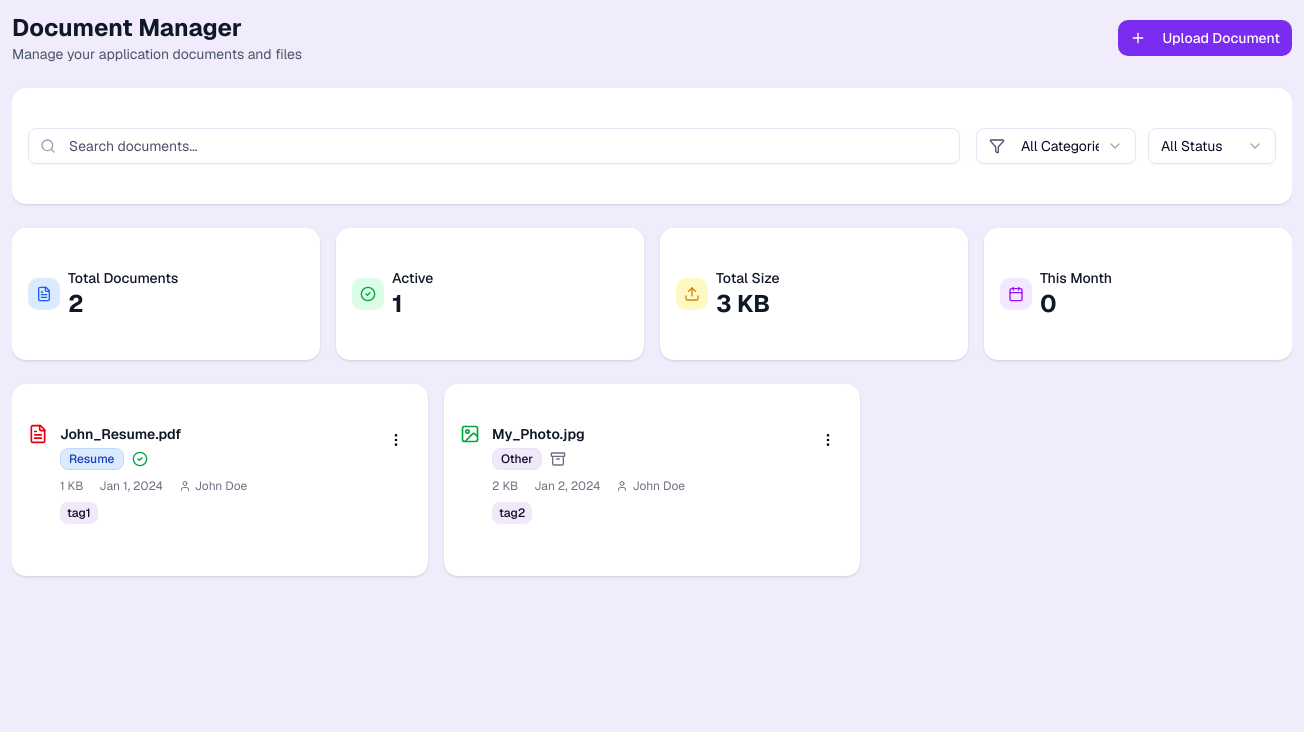
Test: DocumentManager › filters documents by search query
This screenshot has width=1304, height=732.
Type "Resume" into the field with placeholder "Search documents..." at (494, 146), box [28, 128, 960, 164]
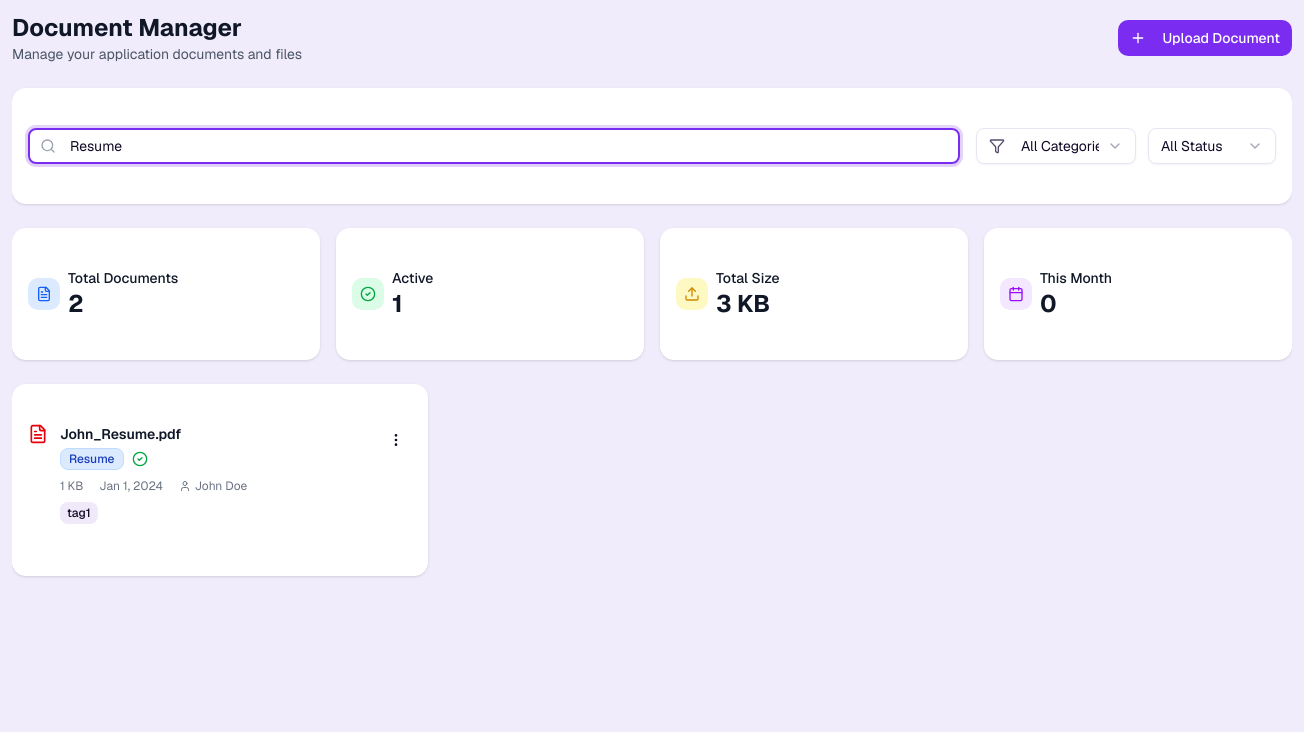
Expected: the heading "John_Resume.pdf" is shown, [60, 424, 181, 444]
Expected: the heading "My_Photo.jpg" is gone
